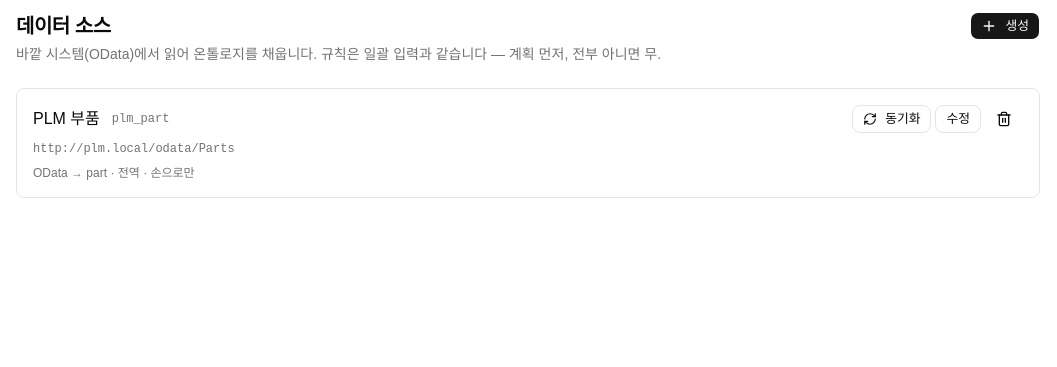
it: 최근 동기화 › 동기화를 돌리면 펼쳐 둔 기록을 다시 읽는다
Click the button "PLM 부품". click: {"x": 66, "y": 119}
box: [33, 107, 100, 131]
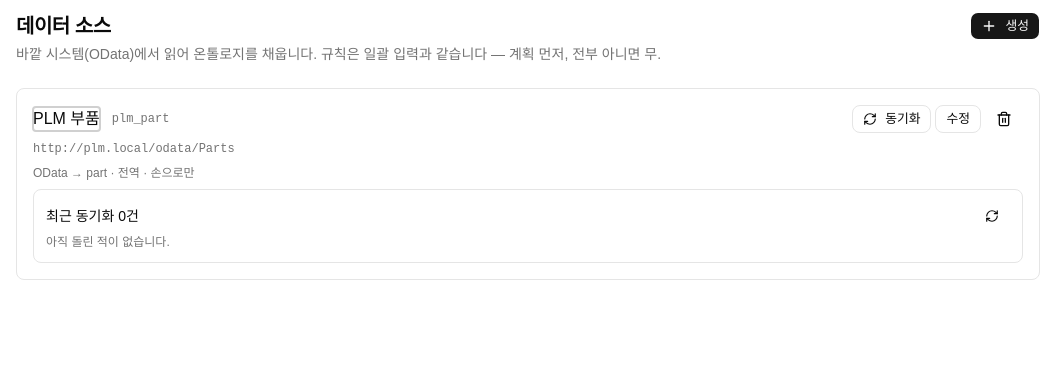
Click the button "동기화". click: {"x": 892, "y": 119}
box: [852, 105, 931, 133]
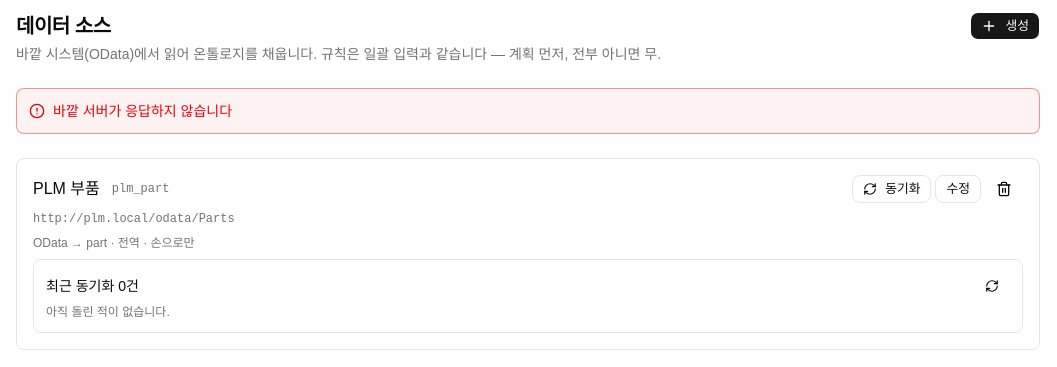
Now the text "바깥 서버가 응답하지 않습니다" is shown, box [53, 101, 232, 121]
